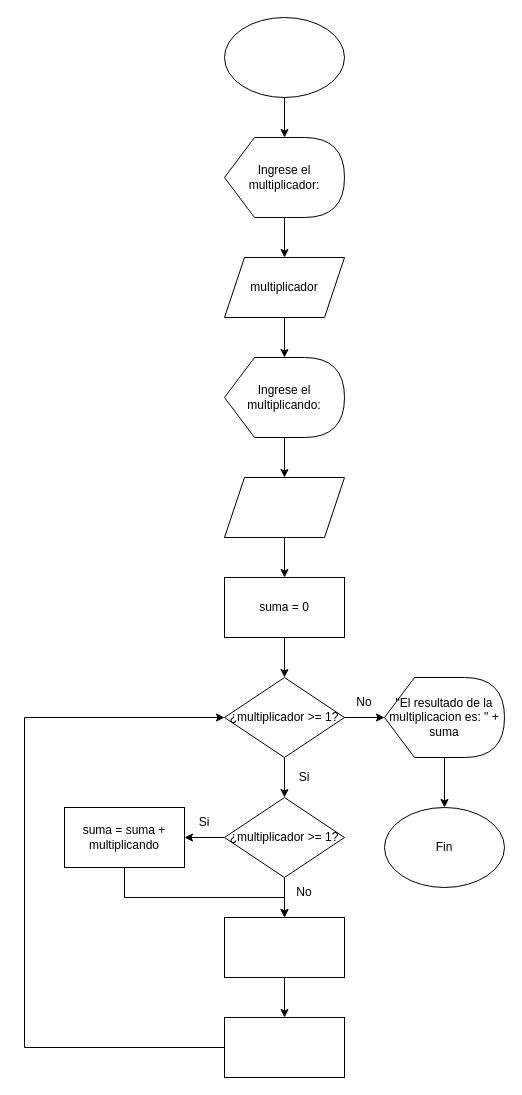
This 522x1095 diagram has some shape labels left out. The centre of each missing label's shape, as x and y in pixels:
Inicio: point 284,57
multiplicando: point 284,507
multiplicando = multiplicador * 2: point 284,1047
multiplicando = multiplicador / 2: point 284,947
